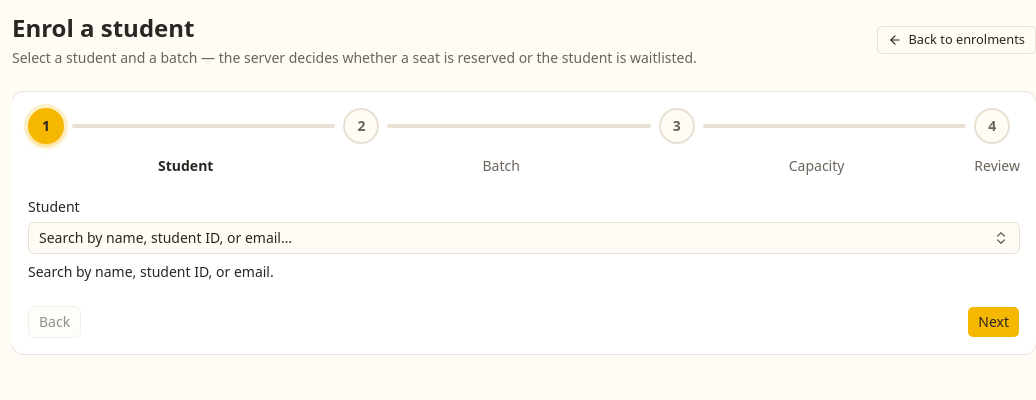
EnrollmentCreatePage › renders the four-step wizard and blocks "Next" until a student is selected
Expected: the heading "Enrol a student" is shown, x1=12 y1=11 x2=194 y2=44
Expected: the text "Batch" is shown, x1=482 y1=156 x2=520 y2=176
Click the button "Next". click: (994, 322)
box: x1=967 y1=306 x2=1020 y2=338
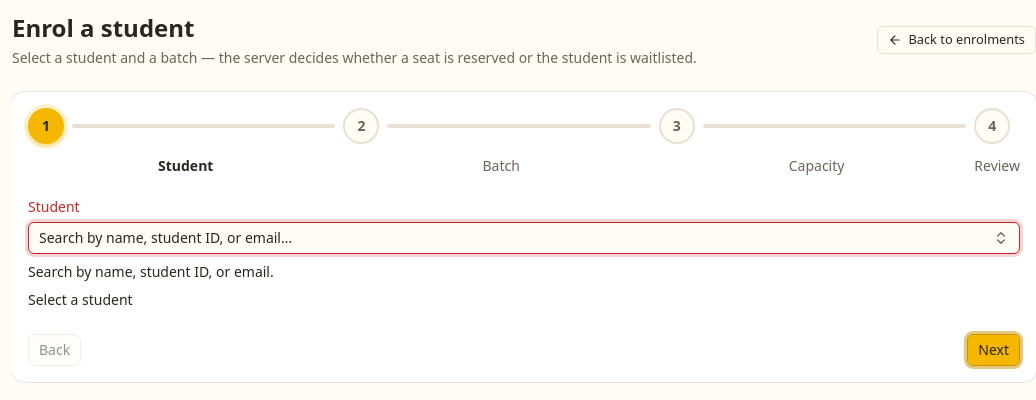
Expected: the text "Select a student" is shown, x1=28 y1=290 x2=133 y2=309
